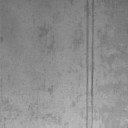surface scratch: (86, 0, 94, 128)
